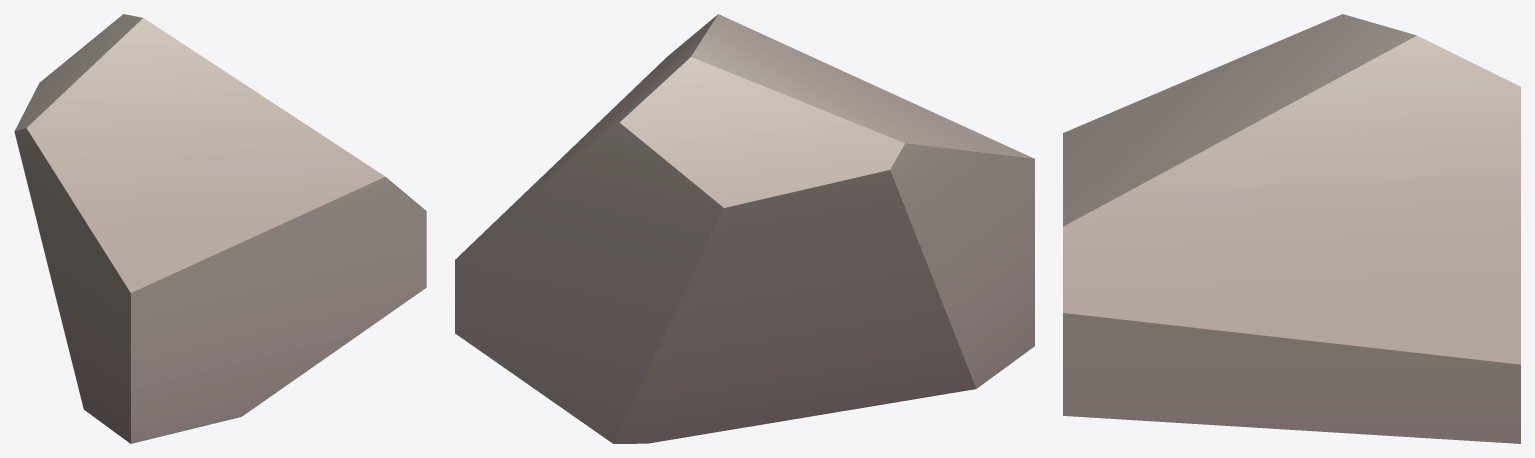
Rendered from Rock_1.fbx.
The picture shows the model from 3 angles, left to right: view 1: azimuth 30°, elevation 25°; view 2: azimuth 150°, elevation 25°; view 3: azimuth 270°, elevation 25°; orthographic projection. The views are drawn at different scales.
Visible parts, largest first — view 1: Rock_1; view 2: Rock_1; view 3: Rock_1.
Part boxes in pixels (box(x1,y1,x2,y2)): Rock_1: box(14, 14, 426, 443); Rock_1: box(455, 14, 1034, 443); Rock_1: box(1063, 14, 1520, 443).
Size of the model in its own units: 37.16 by 35.32 by 37.16.
